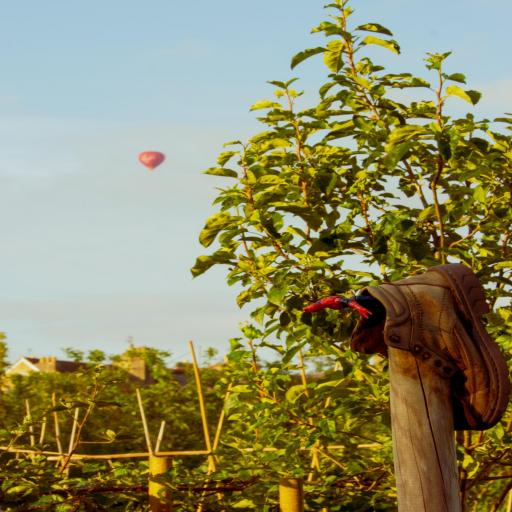hot air ballon: (138, 152, 165, 172)
